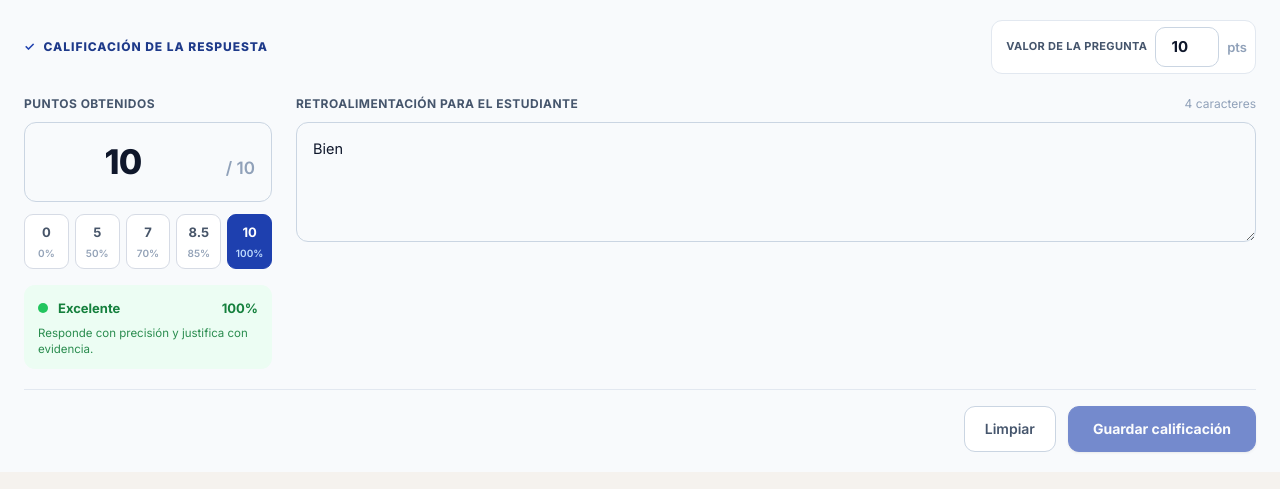
Test: QuestionGradingPanel › recomputes the band when the per-question value changes
Expected: the text "Excelente" is shown, [58,297,120,319]
Replace the text in the number field labelled "Valor de la pregunta" with "20" at (1187, 47), box [1155,27,1219,66]
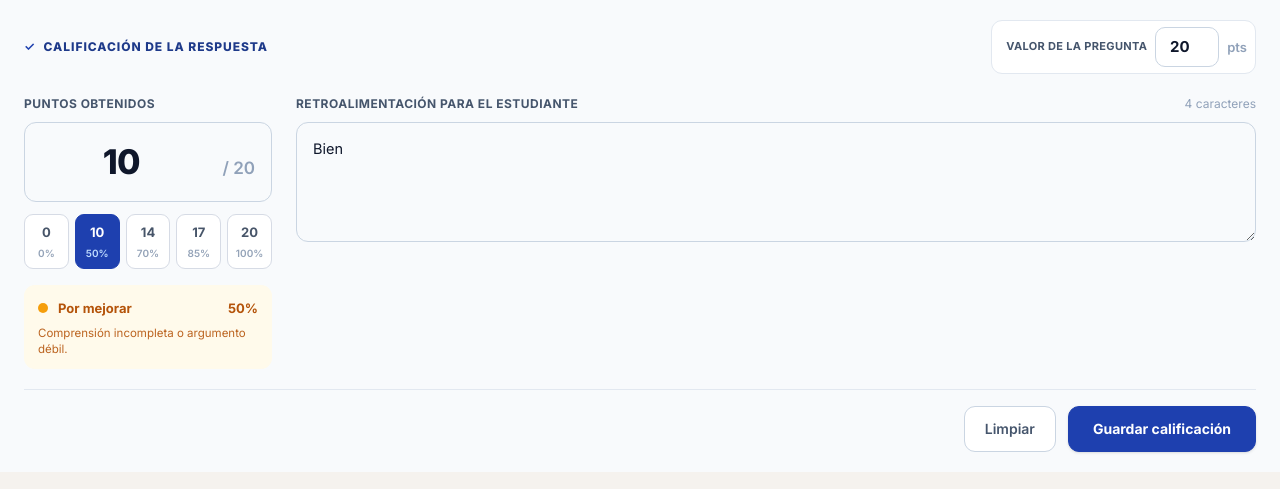
Now the text "Por mejorar" is shown, box [58,297,132,319]
